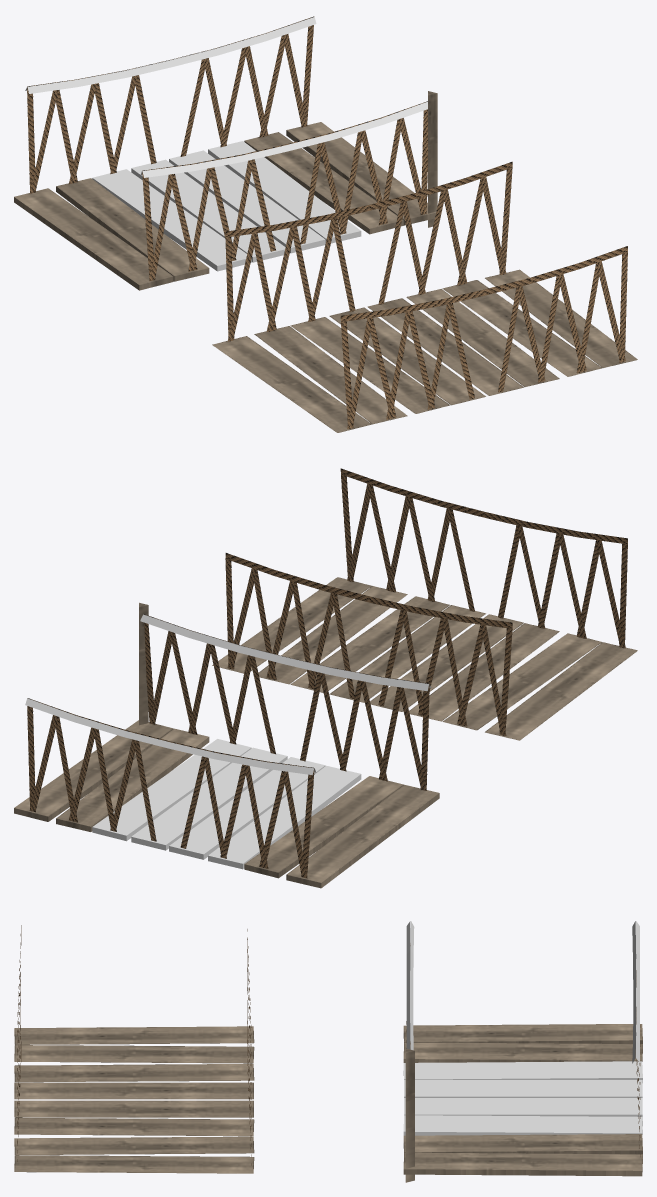
The model's file is WoddenBridge.fbx.
3 views of the same model, one above another, from view 1: azimuth 30°, elevation 25°; view 2: azimuth 150°, elevation 25°; view 3: azimuth 270°, elevation 25° (orthographic).
Visible parts, largest first — view 1: Plane, Plane.001, Circle; view 2: Plane, Plane.001, Circle; view 3: Plane, Plane.001, Circle.
Boxes of the visible parts, box(x1,y1,x2,y2) form: Plane: box(14, 16, 436, 290); Plane.001: box(212, 161, 637, 432); Circle: box(428, 91, 437, 227); Plane: box(14, 614, 439, 888); Plane.001: box(212, 468, 637, 740); Circle: box(139, 602, 148, 725); Plane: box(403, 921, 642, 1176); Plane.001: box(14, 925, 254, 1173); Circle: box(405, 1048, 414, 1182).
Bounding box in the file's own units: 1167 × 476 × 2092.
